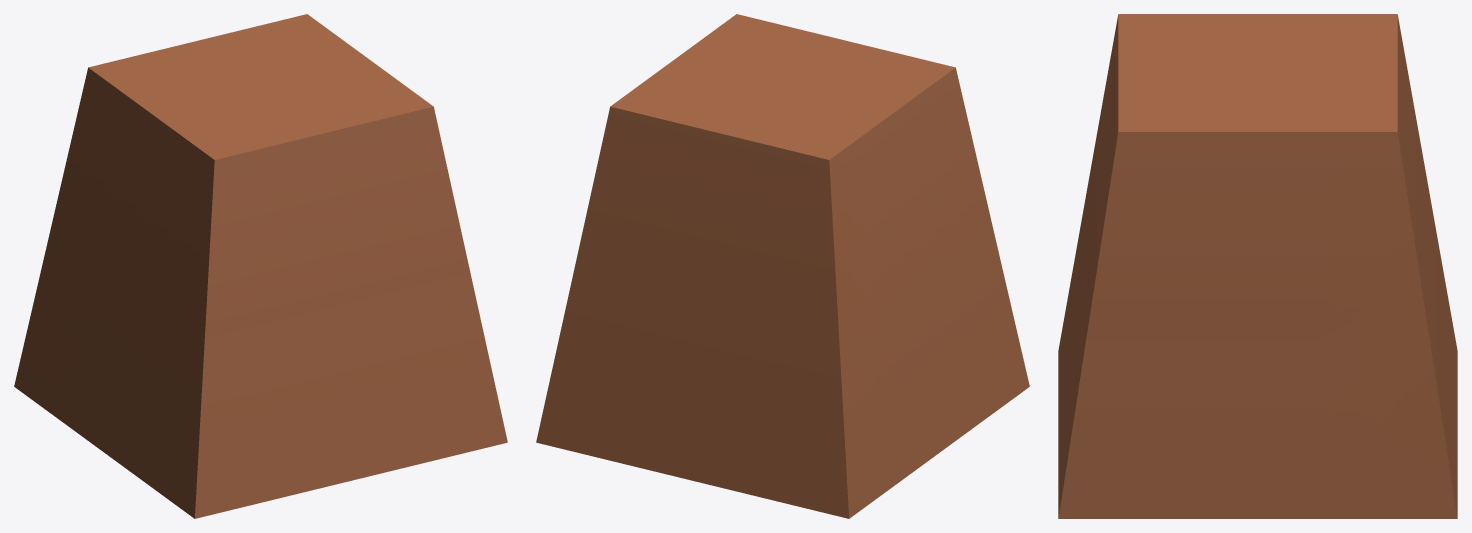
The model's file is rock_2_a_color1.61709477.glb.
3 views of the same model, side by side, from view 1: azimuth 30°, elevation 25°; view 2: azimuth 150°, elevation 25°; view 3: azimuth 270°, elevation 25° (orthographic). The views are drawn at different scales.
Parts seen in each view (by area): view 1: Rock_2_A_Color1; view 2: Rock_2_A_Color1; view 3: Rock_2_A_Color1.
Boxes of the visible parts, x1=… form: Rock_2_A_Color1: x1=14, y1=14, x2=507, y2=518; Rock_2_A_Color1: x1=536, y1=14, x2=1029, y2=518; Rock_2_A_Color1: x1=1058, y1=14, x2=1457, y2=518.
Bounding box in the file's own units: 0.2156 × 0.2156 × 0.2156.
1 material, 1 textured.
